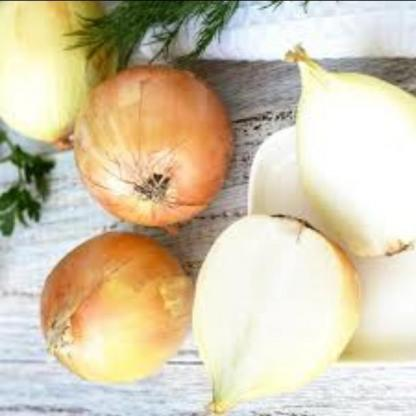onion: (184, 204, 364, 412), (276, 26, 416, 278), (62, 50, 238, 229), (23, 211, 200, 388), (0, 2, 116, 168)
